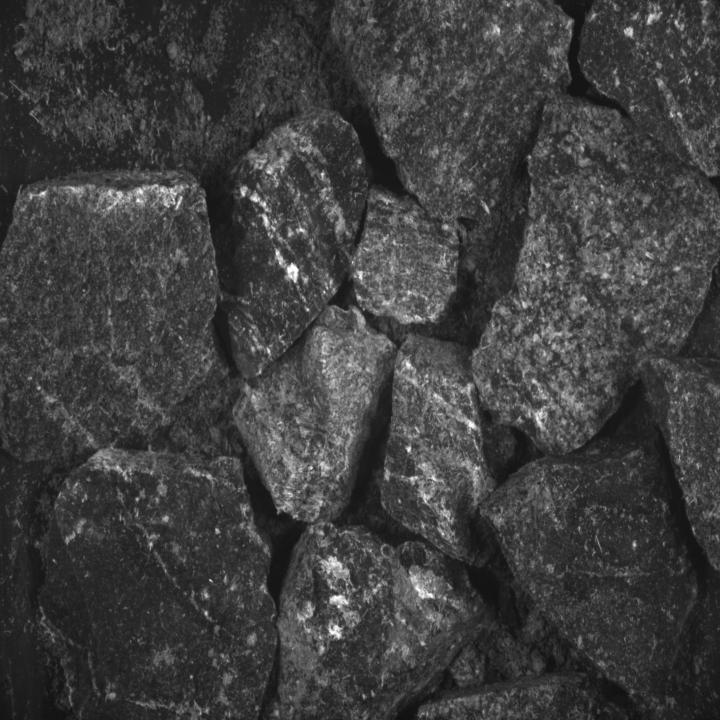stone: (474, 92, 719, 456), (483, 417, 716, 719), (0, 169, 222, 463), (34, 451, 273, 718), (331, 0, 572, 263), (266, 526, 492, 719), (226, 104, 364, 378), (232, 303, 396, 524), (377, 320, 497, 556), (576, 0, 719, 183), (640, 355, 720, 580), (352, 185, 460, 323)
